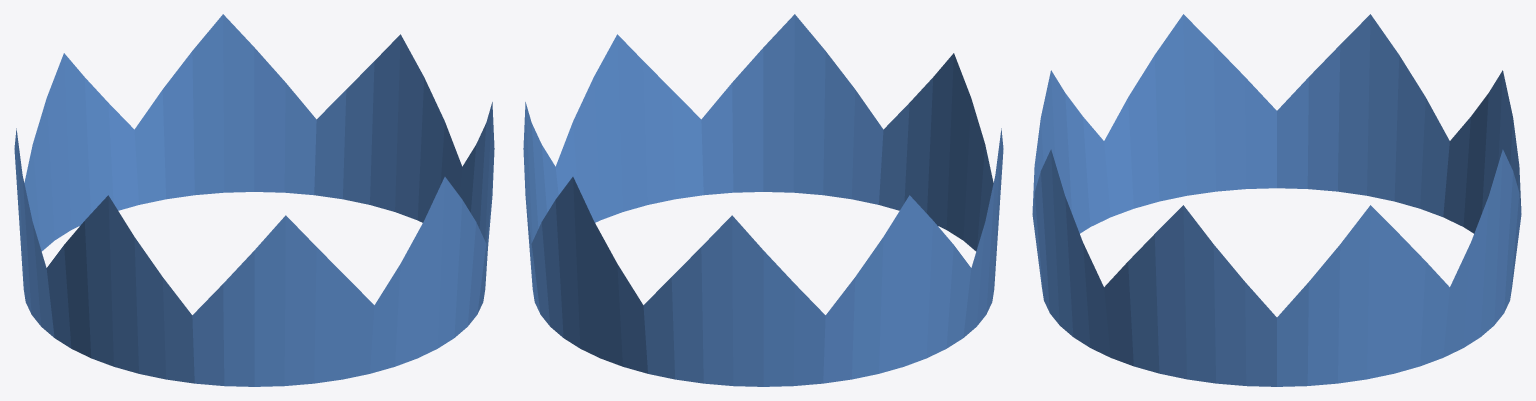
Rendered from partyhat.glb.
3 views of the same model, side by side, from view 1: azimuth 30°, elevation 25°; view 2: azimuth 150°, elevation 25°; view 3: azimuth 270°, elevation 25° (orthographic).
Parts seen in each view (by area): view 1: partyhat; view 2: partyhat; view 3: partyhat.
Boxes of the visible parts, left/top/right/bottom form: partyhat: left=14, top=14, right=494, bottom=386; partyhat: left=523, top=14, right=1003, bottom=386; partyhat: left=1032, top=14, right=1521, bottom=386.
Bounding box in the file's own units: 0.2538 × 0.102 × 0.2538.
